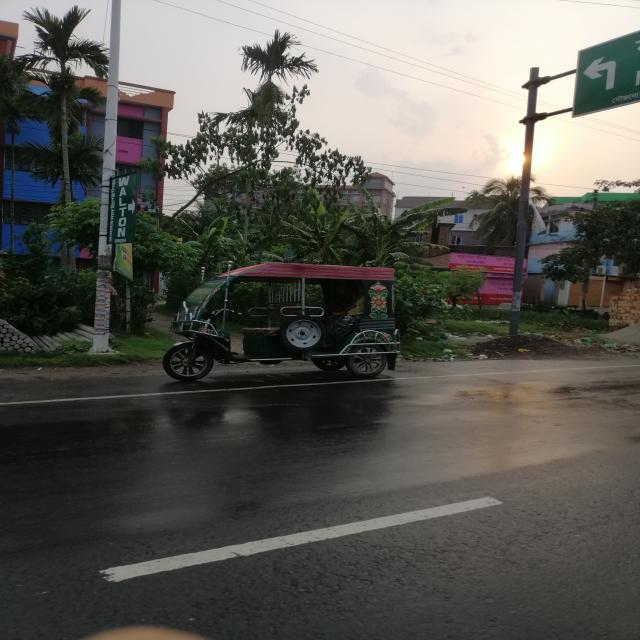Easybike: (144, 250, 426, 408)
